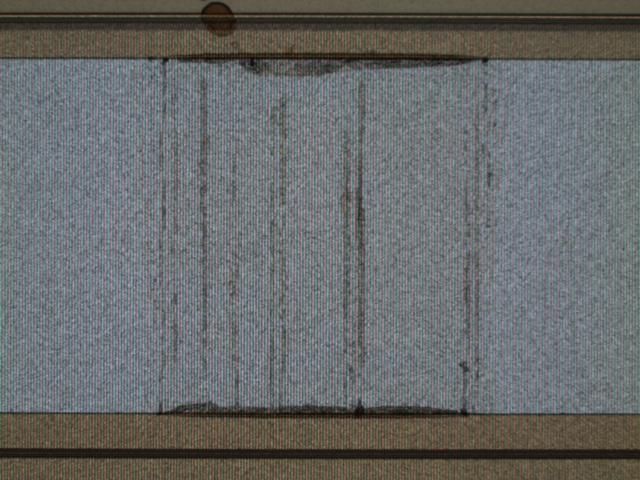SEZ BURNT: (144, 54, 493, 421)
